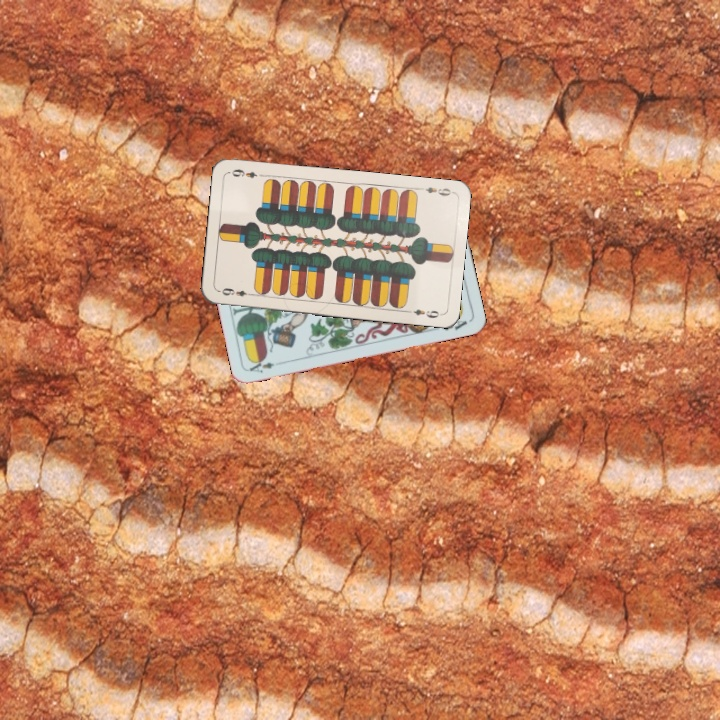E9: (415, 183, 455, 199), (215, 284, 256, 299)
EA: (246, 355, 277, 376)
